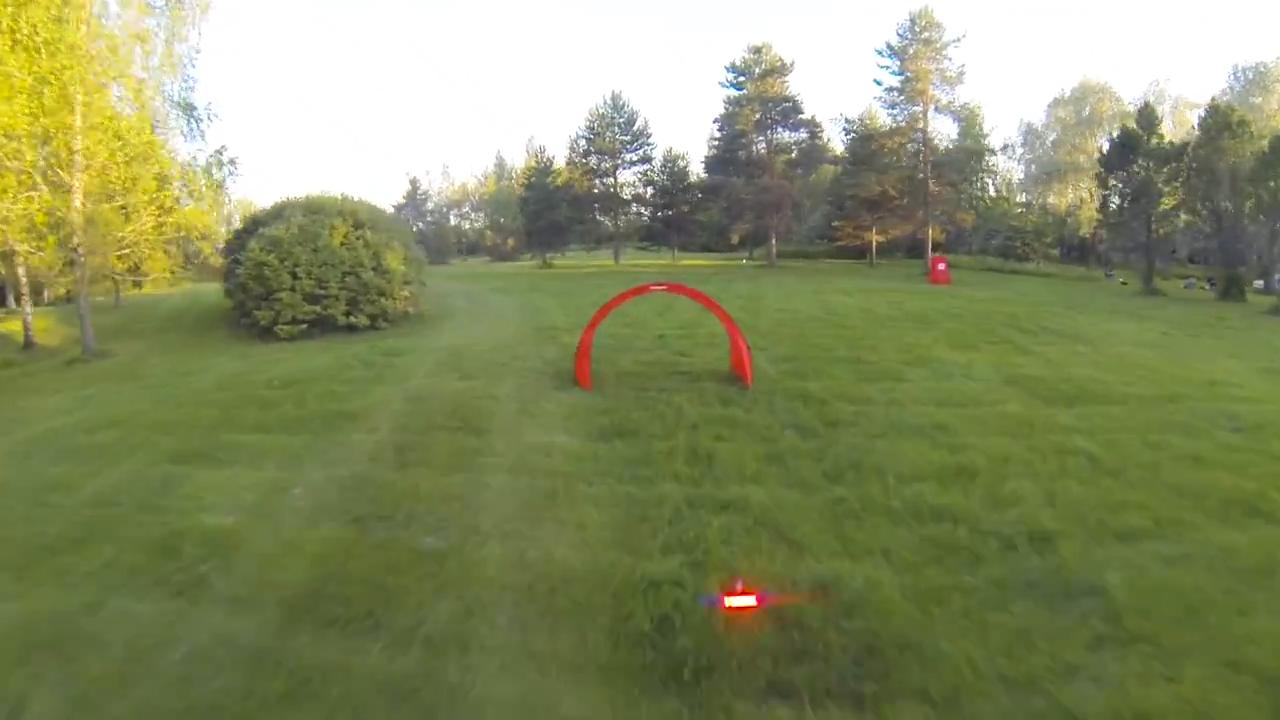gate: (569, 279, 751, 395)
